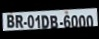character: (40, 14, 49, 28), (49, 14, 58, 28), (63, 14, 71, 28), (78, 14, 86, 28), (6, 14, 14, 27), (15, 14, 23, 27), (70, 14, 77, 28), (86, 14, 93, 28), (27, 14, 34, 27), (35, 14, 40, 28)
